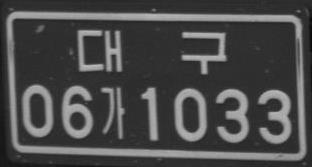0: (174, 87, 207, 142), (21, 83, 53, 137)
1: (137, 87, 167, 141)
3: (258, 88, 292, 144), (215, 88, 249, 143)
6: (61, 84, 93, 139)
가: (101, 86, 125, 140)
대구_D: (77, 28, 226, 75)
